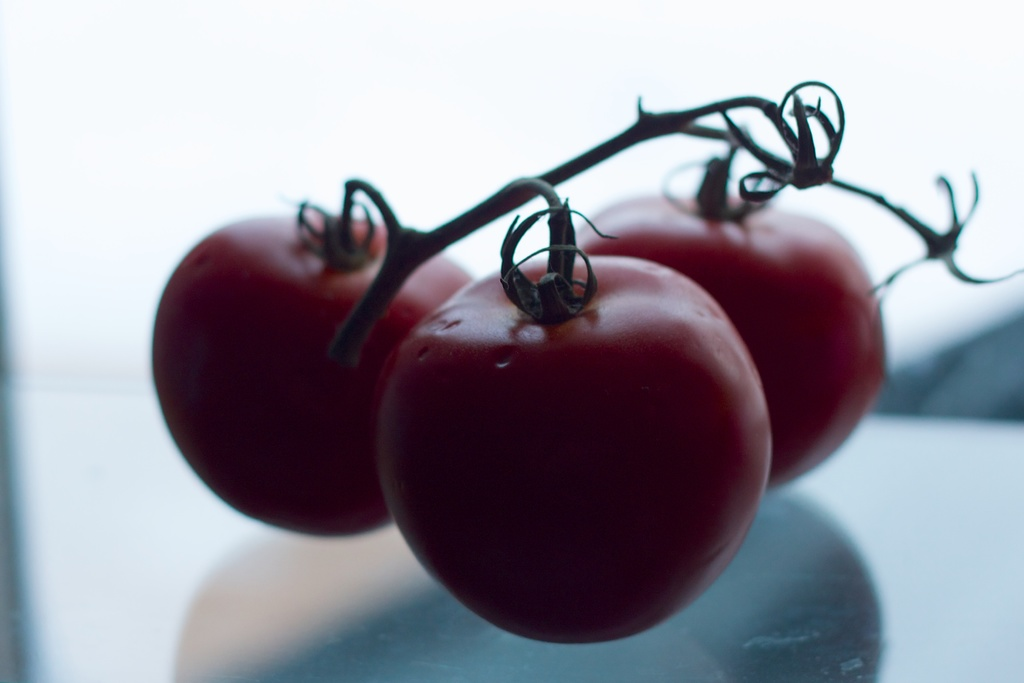Tomato: (374, 232, 778, 663), (147, 203, 477, 536), (562, 186, 896, 488)
